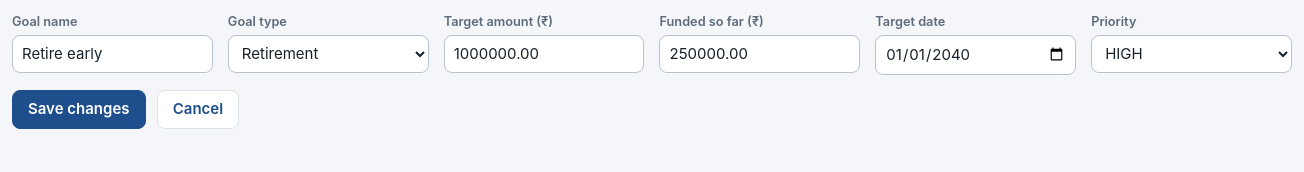
Test: <GoalForm /> › maps server validation errors onto fields
The width and height of the screenshot is (1304, 172).
Step 1. Type "!" into the field labelled "Goal name" → (112, 54), box [12,35,213,73]
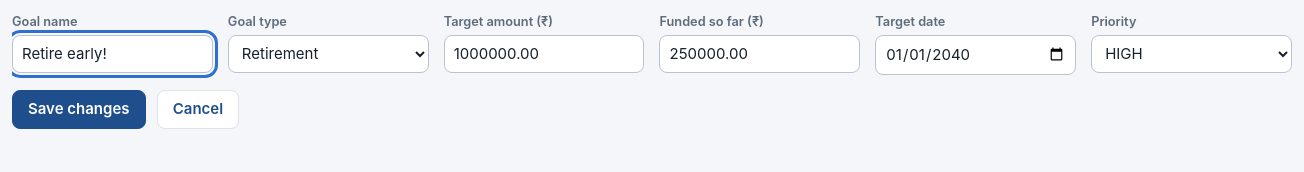
Step 2. Click the button "Save changes" → (79, 110), box [12,90,146,129]
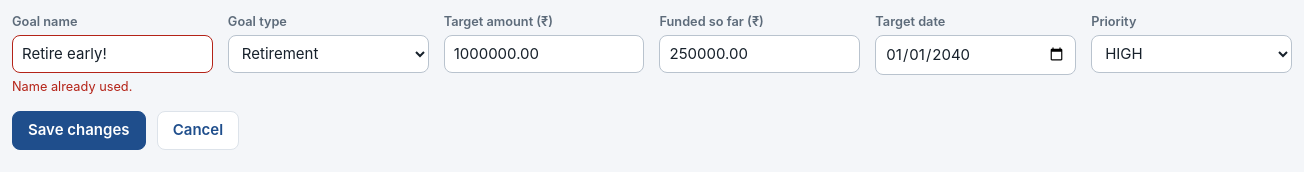
Result: the text "Name already used." is shown at [12,79,132,94]
